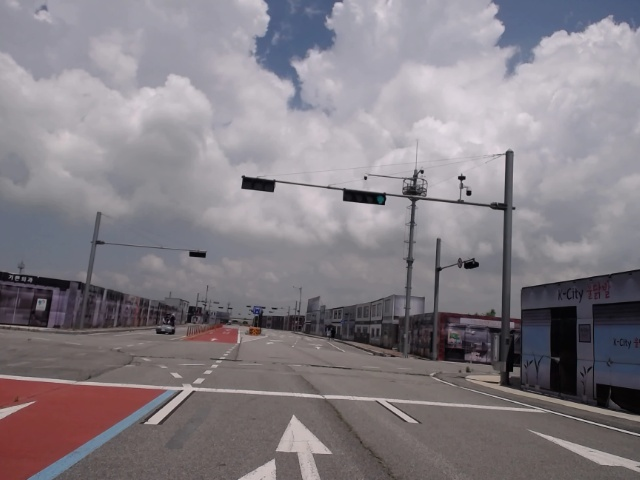straight_green_4: (342, 189, 385, 205)
